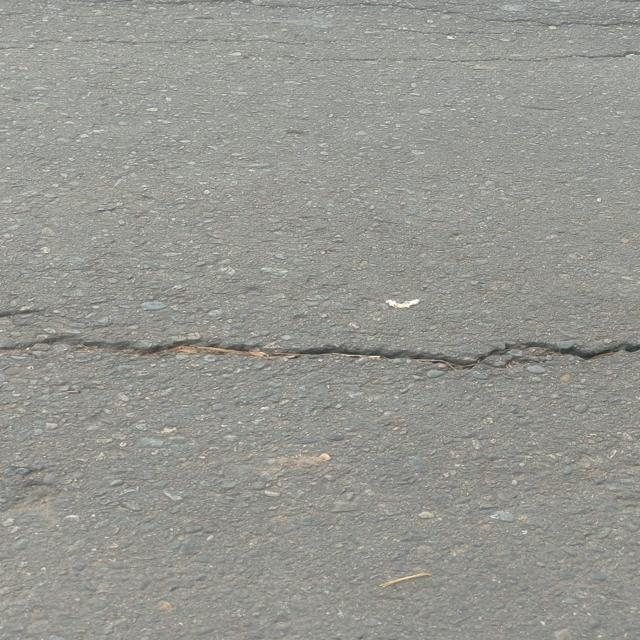Melintang: (0, 324, 640, 386)
